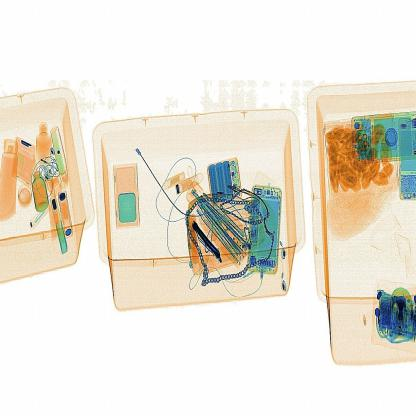knife: (189, 218, 232, 270)
